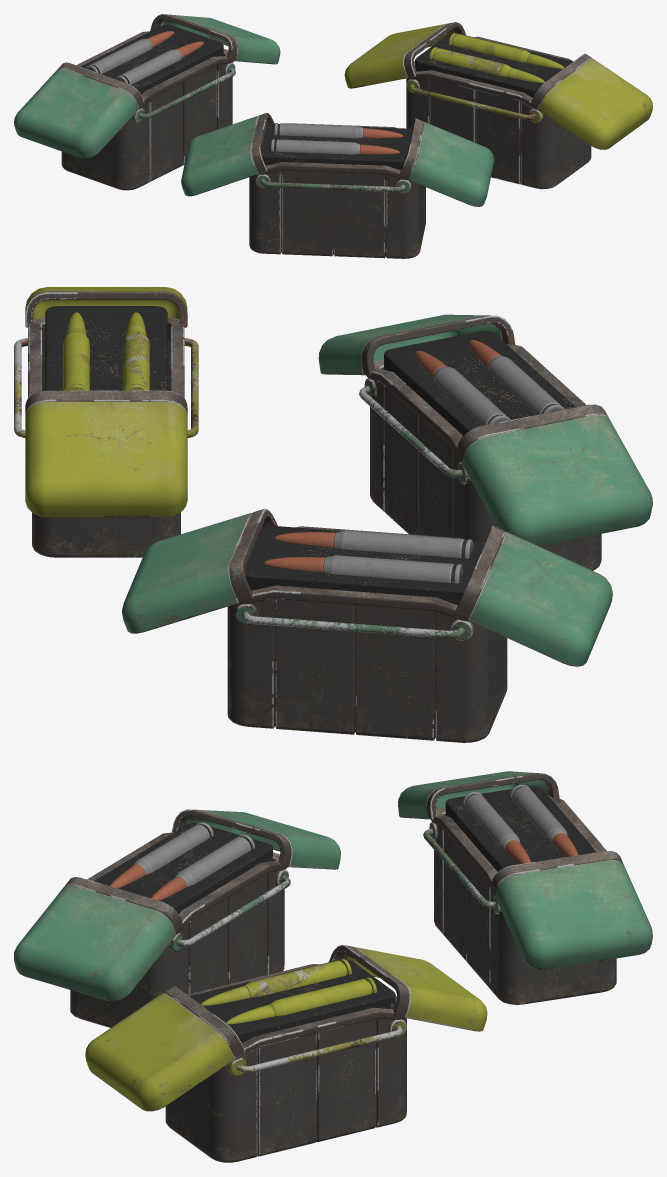
File: ammo.obj
3 renders of one model, top to bottom at view 1: azimuth 30°, elevation 25°; view 2: azimuth 150°, elevation 25°; view 3: azimuth 270°, elevation 25°, orthographic. The views are drawn at different scales.
Parts seen in each view (by area): view 1: BulletsCase_Heavy, Bullets_Heavy; view 2: BulletsCase_Heavy, Bullets_Heavy; view 3: BulletsCase_Heavy, Bullets_Heavy.
Part boxes in pixels (bbox=[...]): BulletsCase_Heavy: bbox=[14, 14, 652, 258]; Bullets_Heavy: bbox=[85, 31, 563, 154]; BulletsCase_Heavy: bbox=[14, 287, 652, 742]; Bullets_Heavy: bbox=[63, 312, 564, 583]; BulletsCase_Heavy: bbox=[14, 771, 652, 1162]; Bullets_Heavy: bbox=[110, 784, 578, 1024].
Bounding box in the file's own units: 3.43 × 0.6853 × 2.92.
